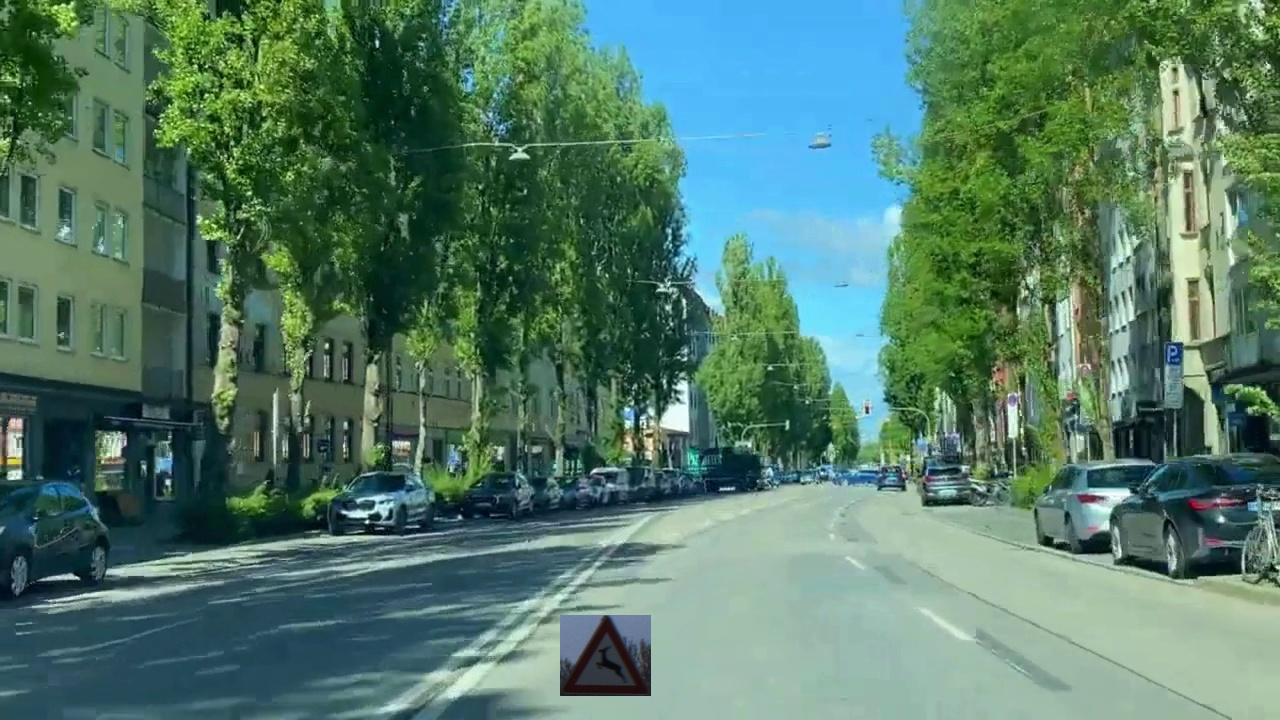Wild animals: (560, 615, 651, 696)
